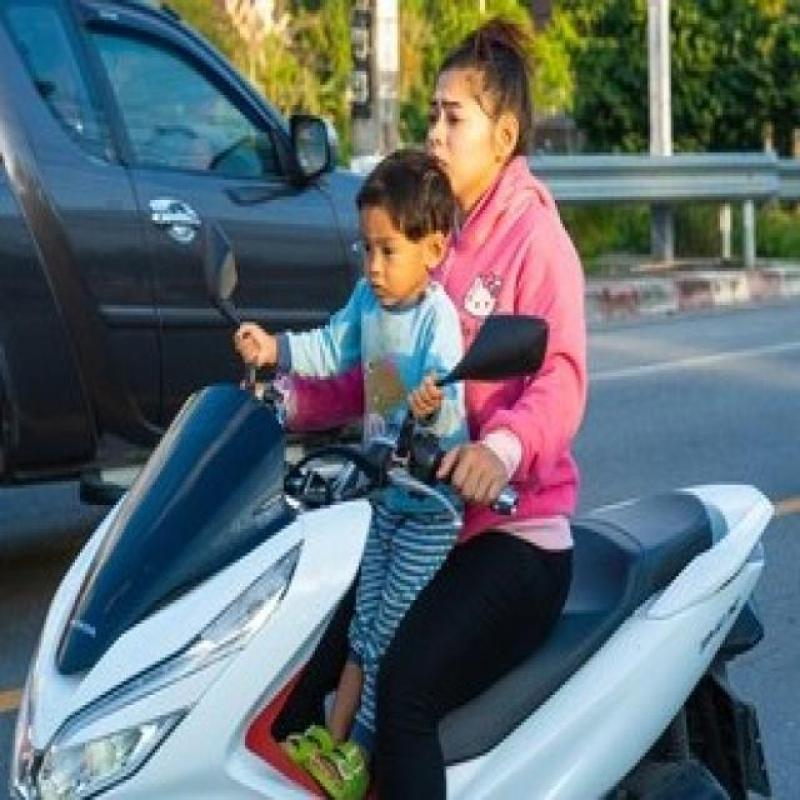nohelmet: (414, 6, 552, 194), (350, 134, 450, 318)
